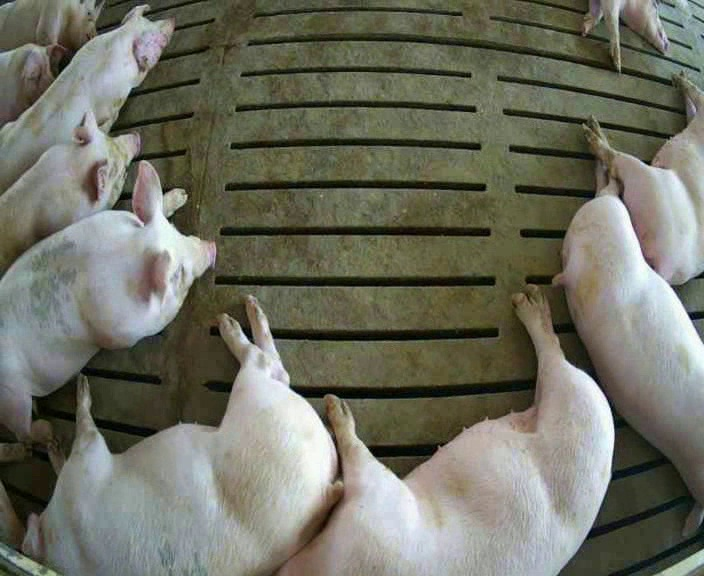pig: (279, 287, 613, 573), (23, 298, 340, 575), (0, 162, 214, 440), (554, 160, 703, 533), (0, 5, 173, 193), (583, 73, 703, 284), (0, 112, 139, 275), (0, 43, 68, 126), (0, 1, 102, 49)
